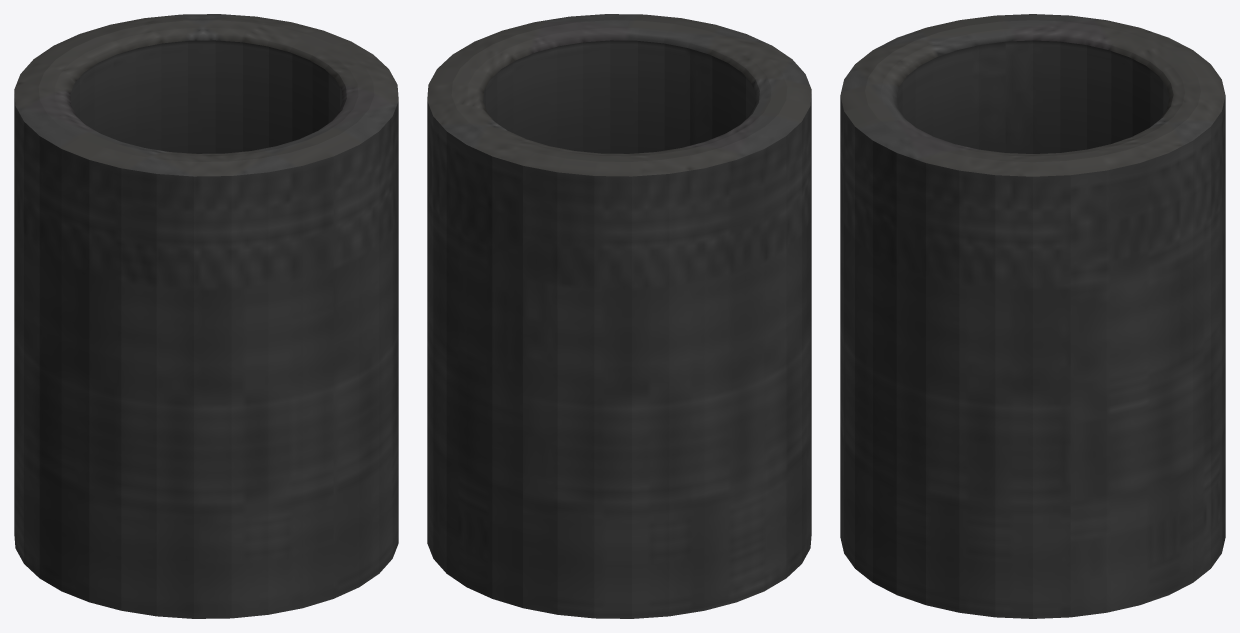
Rendered from tyres.glb.
3 views of the same model, side by side, from view 1: azimuth 30°, elevation 25°; view 2: azimuth 150°, elevation 25°; view 3: azimuth 270°, elevation 25° (orthographic).
Parts seen in each view (by area): view 1: NFT_0; view 2: NFT_0; view 3: NFT_0.
Boxes of the visible parts, x1=… form: NFT_0: x1=14, y1=14, x2=398, y2=618; NFT_0: x1=427, y1=14, x2=811, y2=618; NFT_0: x1=840, y1=14, x2=1225, y2=618.
Size of the model in its own units: 0.7243 by 0.9345 by 0.7243.
Materials: 1 (1 with a texture image).
